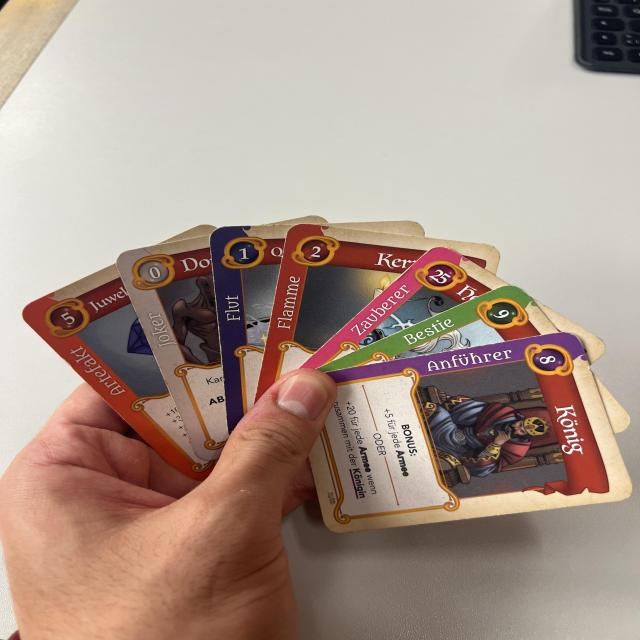Candle: (258, 223, 436, 399)
Doppelganger: (114, 234, 231, 460)
Fountain Of Life: (215, 225, 287, 433)
Gem Of Order: (16, 266, 205, 477)
King: (308, 332, 635, 533)
Unicorn: (314, 286, 563, 372)
Warlock Lord: (299, 244, 509, 368)
